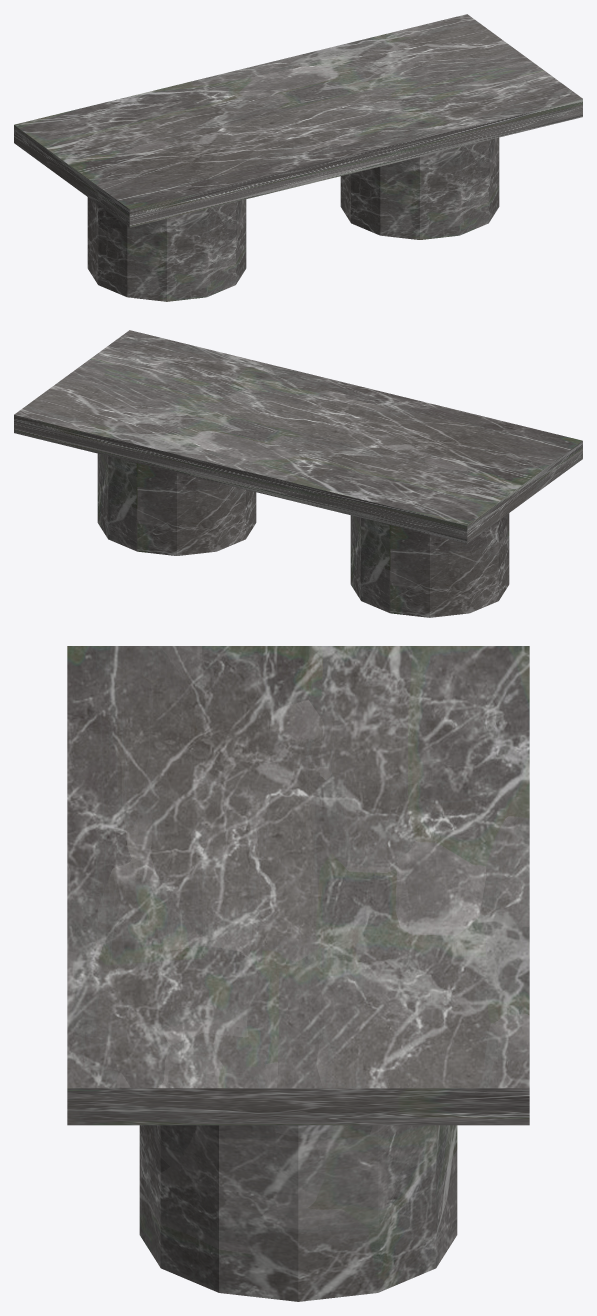
File: MarbleTable.glb
3 views of the same model, one above another, from view 1: azimuth 30°, elevation 25°; view 2: azimuth 150°, elevation 25°; view 3: azimuth 270°, elevation 25° (orthographic). The views are drawn at different scales.
Visible parts, largest first — view 1: Platform; view 2: Platform; view 3: Platform.
Part boxes in pixels (box(x1,y1,x2,y2)): Platform: box(14, 14, 582, 301); Platform: box(14, 330, 582, 617); Platform: box(67, 646, 529, 1301).
Size of the model in its own units: 3.29 by 0.864 by 1.46.
1 material, 1 textured.
